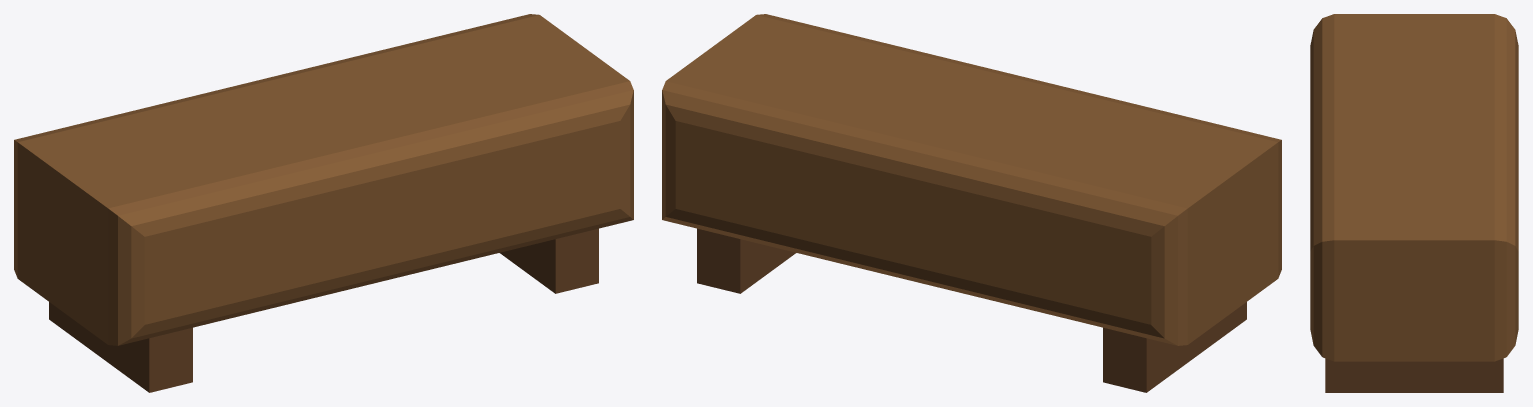
Rendered from trough.glb.
The picture shows the model from 3 angles, left to right: view 1: azimuth 30°, elevation 25°; view 2: azimuth 150°, elevation 25°; view 3: azimuth 270°, elevation 25°; orthographic projection. The views are drawn at different scales.
Parts seen in each view (by area): view 1: farm_trough; view 2: farm_trough; view 3: farm_trough.
Boxes of the visible parts, x1,y1,x2,y2 form: farm_trough: (14, 14, 633, 392); farm_trough: (662, 14, 1281, 392); farm_trough: (1310, 14, 1518, 392).
Size of the model in its own units: 1.8 by 0.625 by 0.7.
